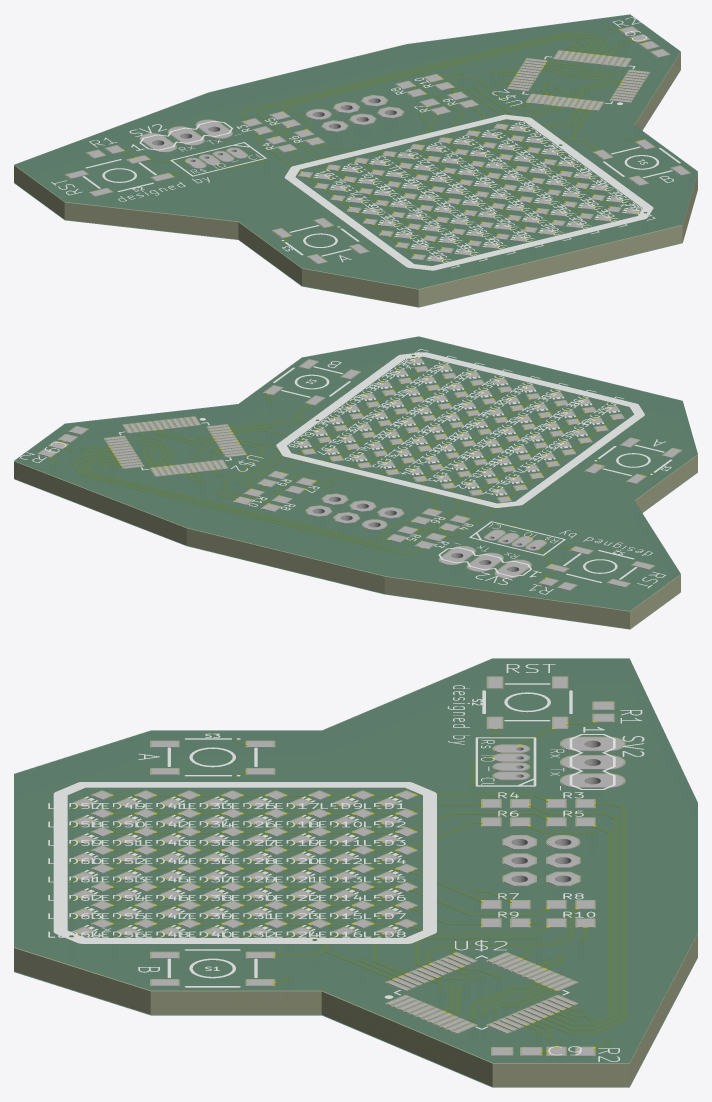
The model's file is dc32-lle-defcon32-sao.glb.
3 views of the same model, one above another, from view 1: azimuth 30°, elevation 25°; view 2: azimuth 150°, elevation 25°; view 3: azimuth 270°, elevation 25° (orthographic). The views are drawn at different scales.
Visible parts, largest first — view 1: =>[0:1:1:7], =>[0:1:1:9], =>[0:1:1:2], =>[0:1:1:5]; view 2: =>[0:1:1:7], =>[0:1:1:9], =>[0:1:1:2], =>[0:1:1:5]; view 3: =>[0:1:1:7], =>[0:1:1:9], =>[0:1:1:2], =>[0:1:1:5].
Part boxes in pixels (box(x1,y1,x2,y2)): =>[0:1:1:7]: box(14, 14, 697, 307); =>[0:1:1:9]: box(14, 15, 697, 306); =>[0:1:1:2]: box(66, 27, 689, 263); =>[0:1:1:5]: box(51, 17, 680, 282); =>[0:1:1:7]: box(14, 336, 697, 629); =>[0:1:1:9]: box(14, 337, 697, 628); =>[0:1:1:2]: box(38, 355, 681, 590); =>[0:1:1:5]: box(20, 349, 671, 594); =>[0:1:1:7]: box(14, 658, 697, 1087); =>[0:1:1:9]: box(14, 659, 697, 1086); =>[0:1:1:2]: box(68, 677, 625, 1055); =>[0:1:1:5]: box(48, 664, 644, 1061).
Size of the model in its own units: 0.056 by 0.00166 by 0.04.
4 materials, 4 textured.
